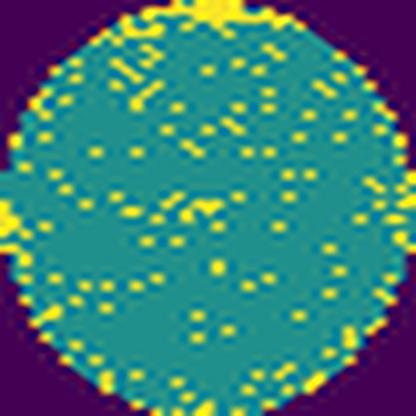Edge-Loc: (95, 0, 307, 41), (0, 200, 27, 254)
